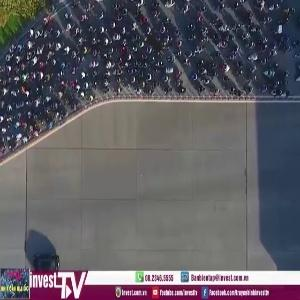drone: (124, 8, 193, 77)
